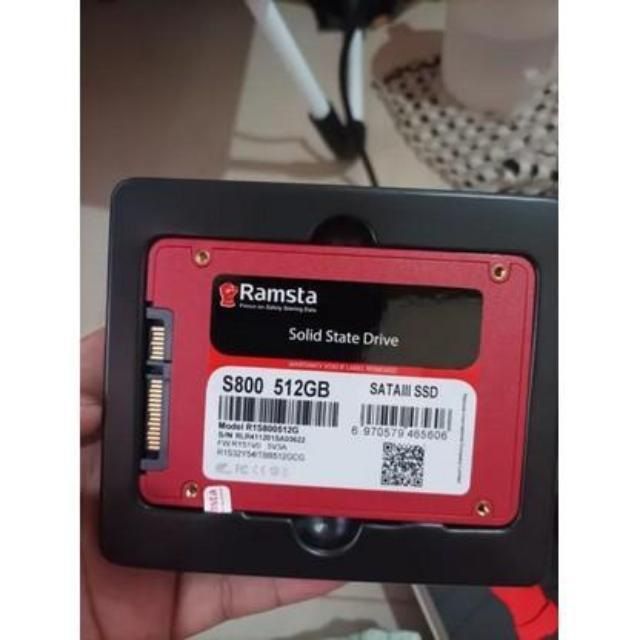DISK: (138, 233, 533, 530)
